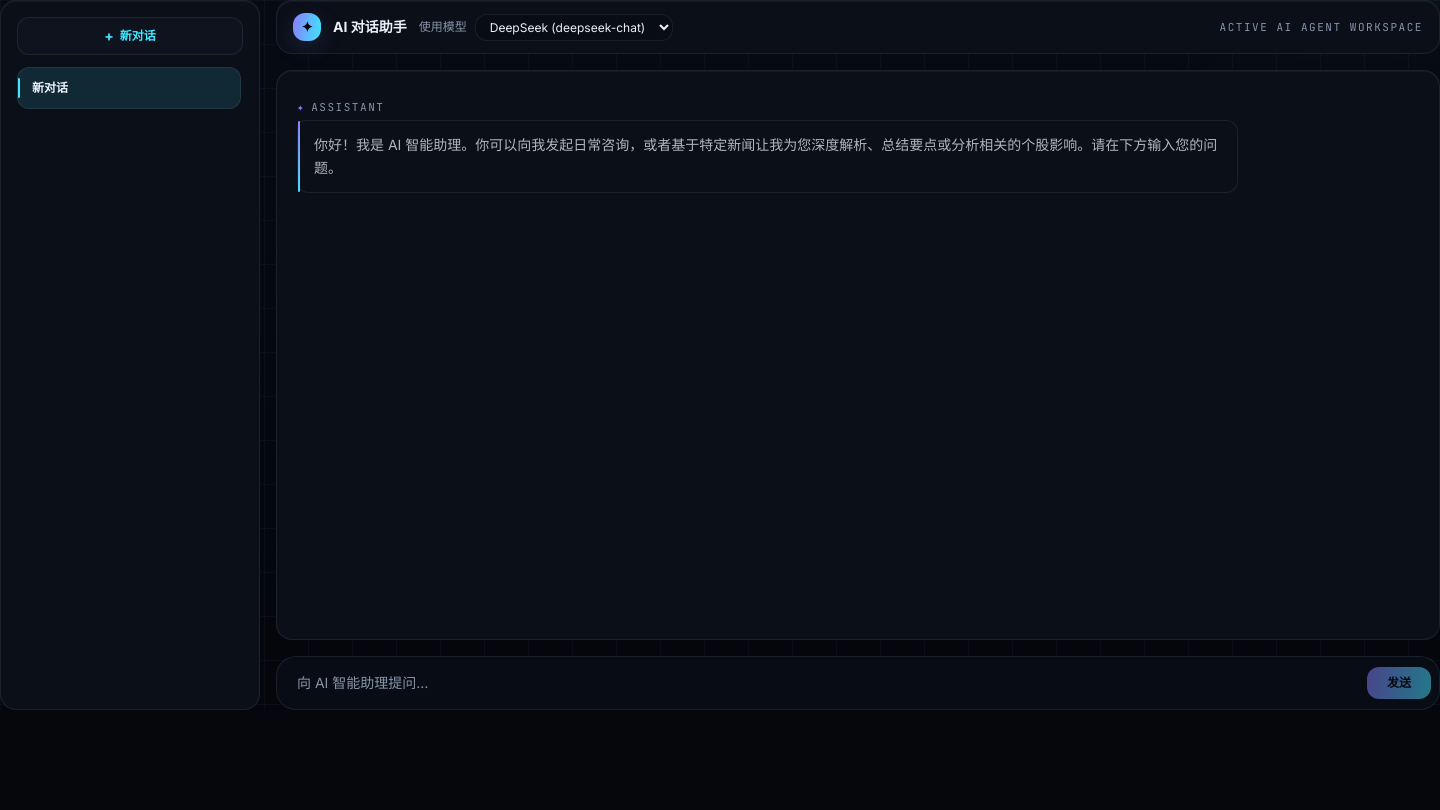
Test case: ChatView › shows a failed-send message in the chat log without crashing on API error
In the field with placeholder "向 AI 智能助理提问…": (822, 683) [285,665,1359,701], type "测试消息"
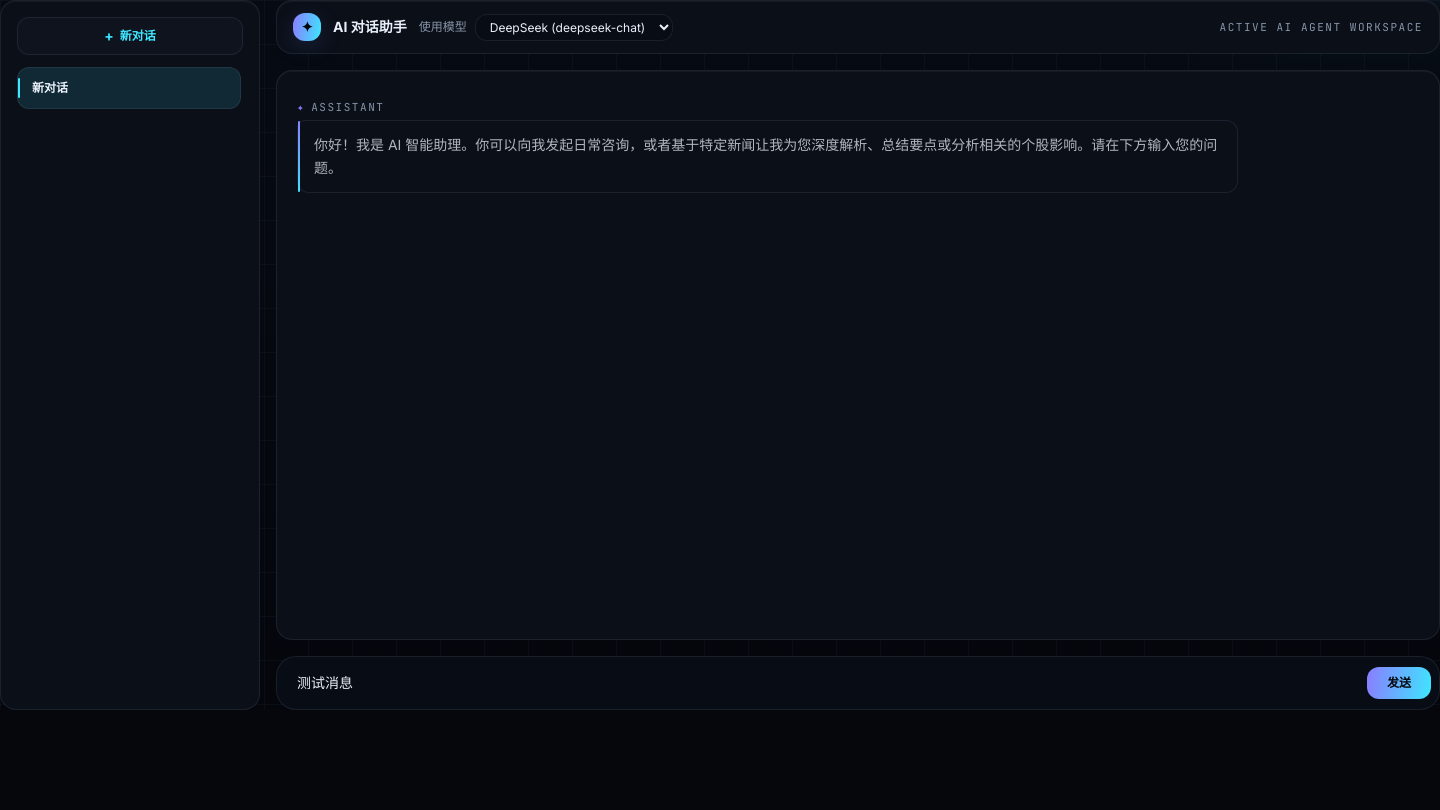
Submit the form, box [276,656,1439,710]
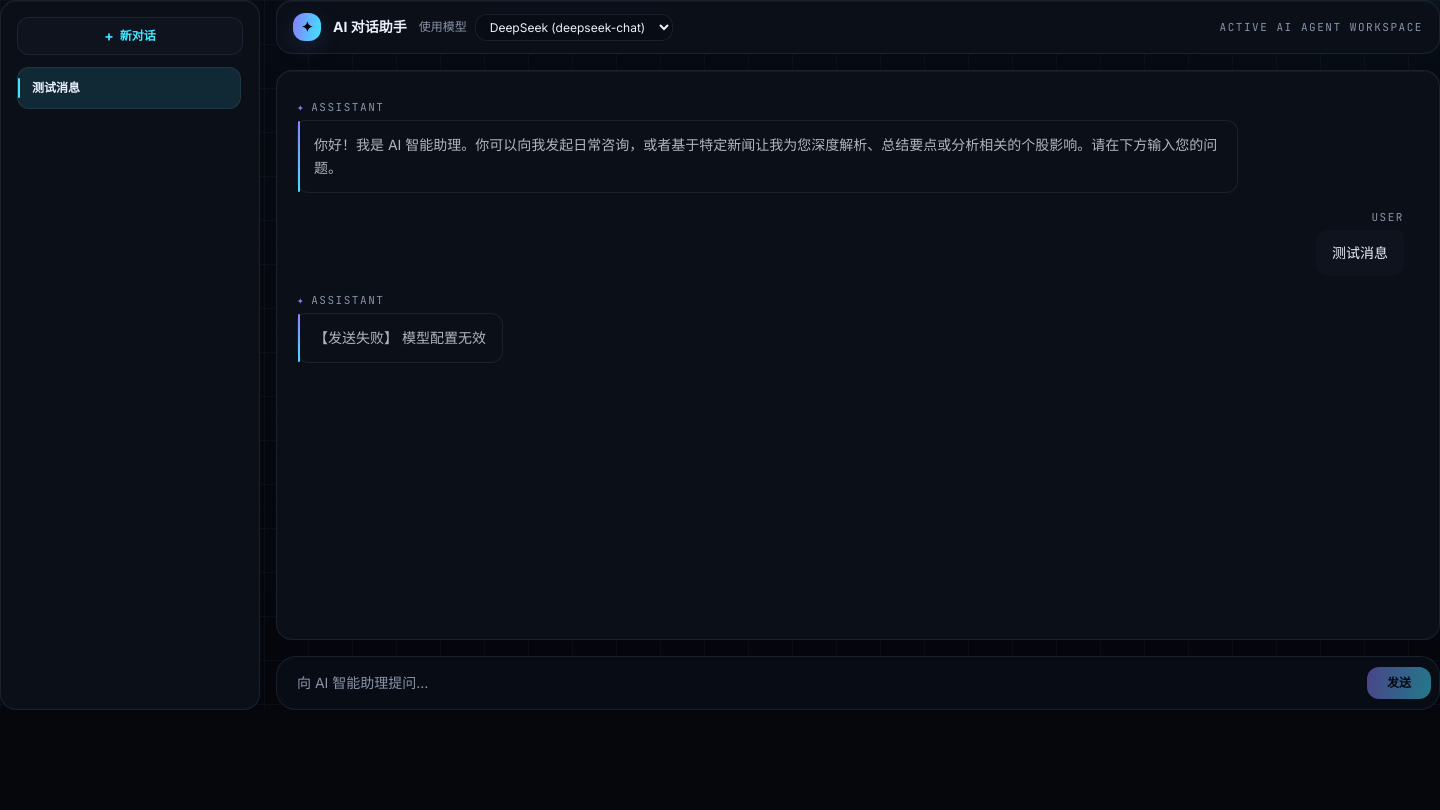
Expected: the text "【发送失败】" is shown, [314,329,486,346]
Expected: the text "模型配置无效" is shown, [314,329,486,346]
